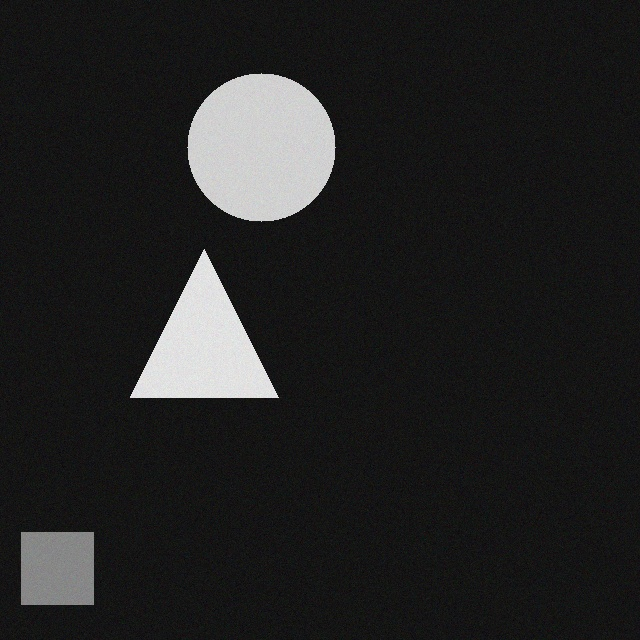circle: (180, 82, 328, 230)
square: (14, 541, 86, 613)
triangle: (123, 258, 271, 406)
